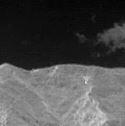Target: (82, 74, 92, 84)
